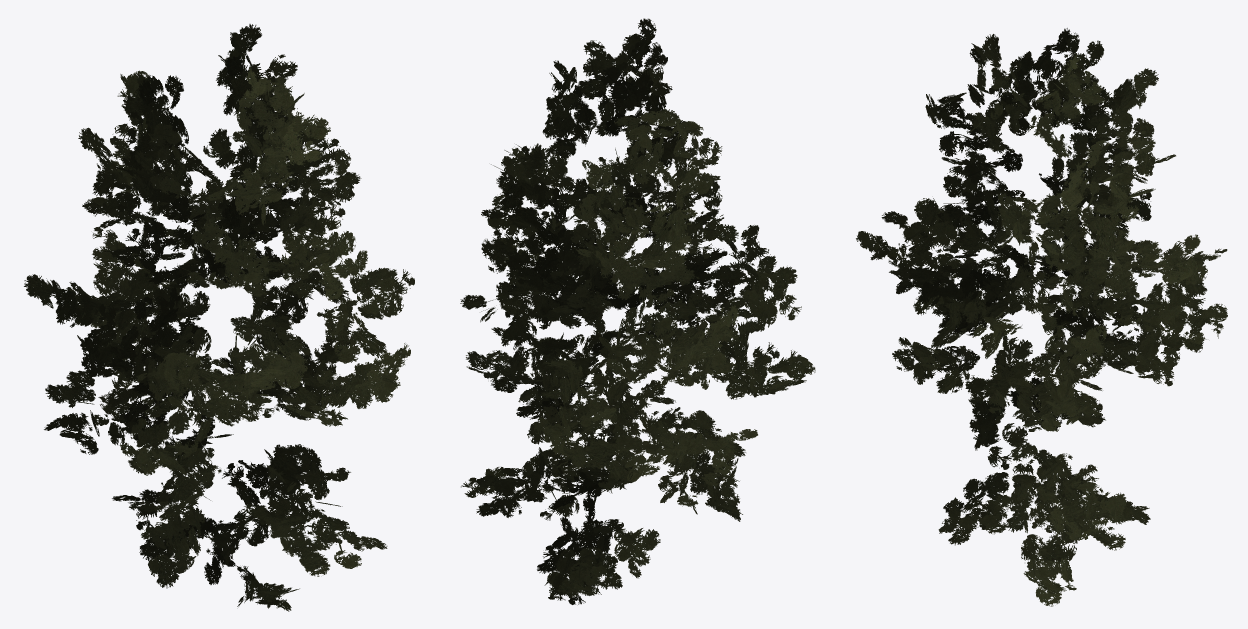
Rendered from fir_b_near.glb.
3 renders of one model, left to right at view 1: azimuth 30°, elevation 25°; view 2: azimuth 150°, elevation 25°; view 3: azimuth 270°, elevation 25°, orthographic. The views are drawn at different scales.
Visible parts, largest first — view 1: cards; view 2: cards; view 3: cards.
Boxes of the visible parts, bbox=[...] form: cards: bbox=[24, 24, 414, 611]; cards: bbox=[460, 18, 815, 604]; cards: bbox=[856, 28, 1227, 606].
Bounding box in the file's own units: 5.95 × 10.42 × 6.32.
1 material, 1 textured.
